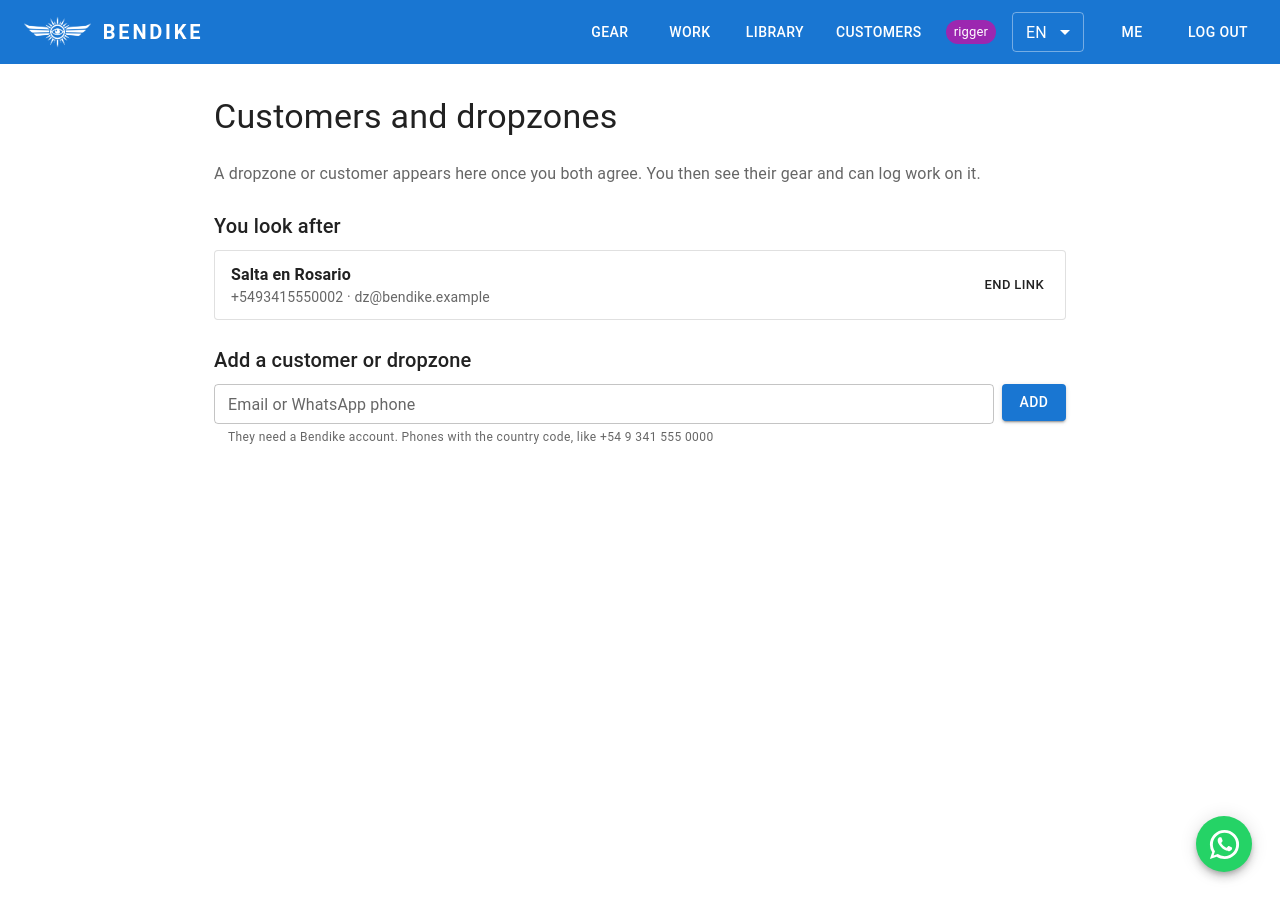
Scenario: LinksPage as a rigger › says the person must create an account first when nobody matches
This screenshot has width=1280, height=900.
Check: the heading "Customers and dropzones" is shown, box [214,96,618,136]
Type "nobody@x.example" into the field labelled "Email or WhatsApp phone" at coordinates (604, 404), box [214,384,994,424]
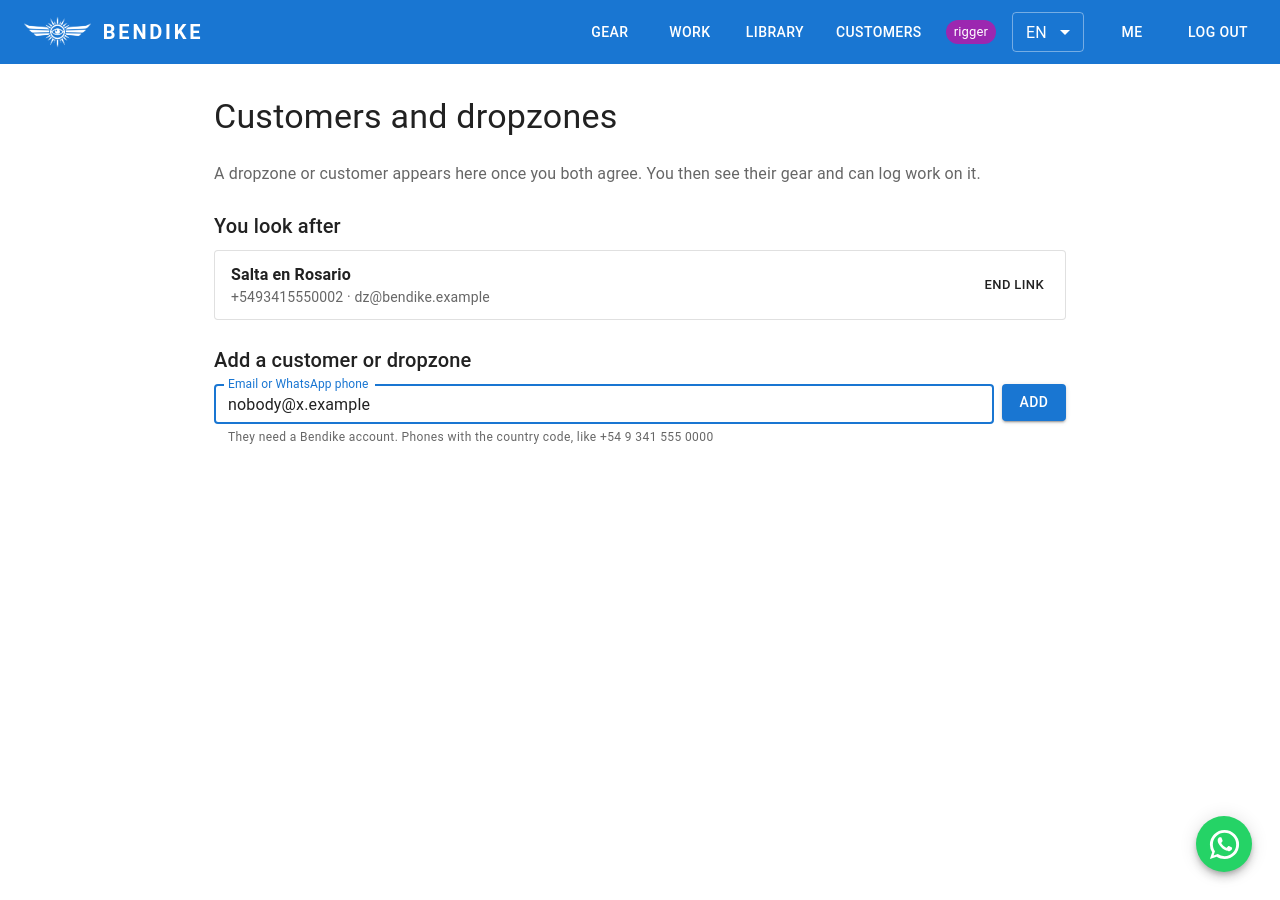
Click the button "Add" at coordinates (1034, 402), box [1002,384,1066,420]
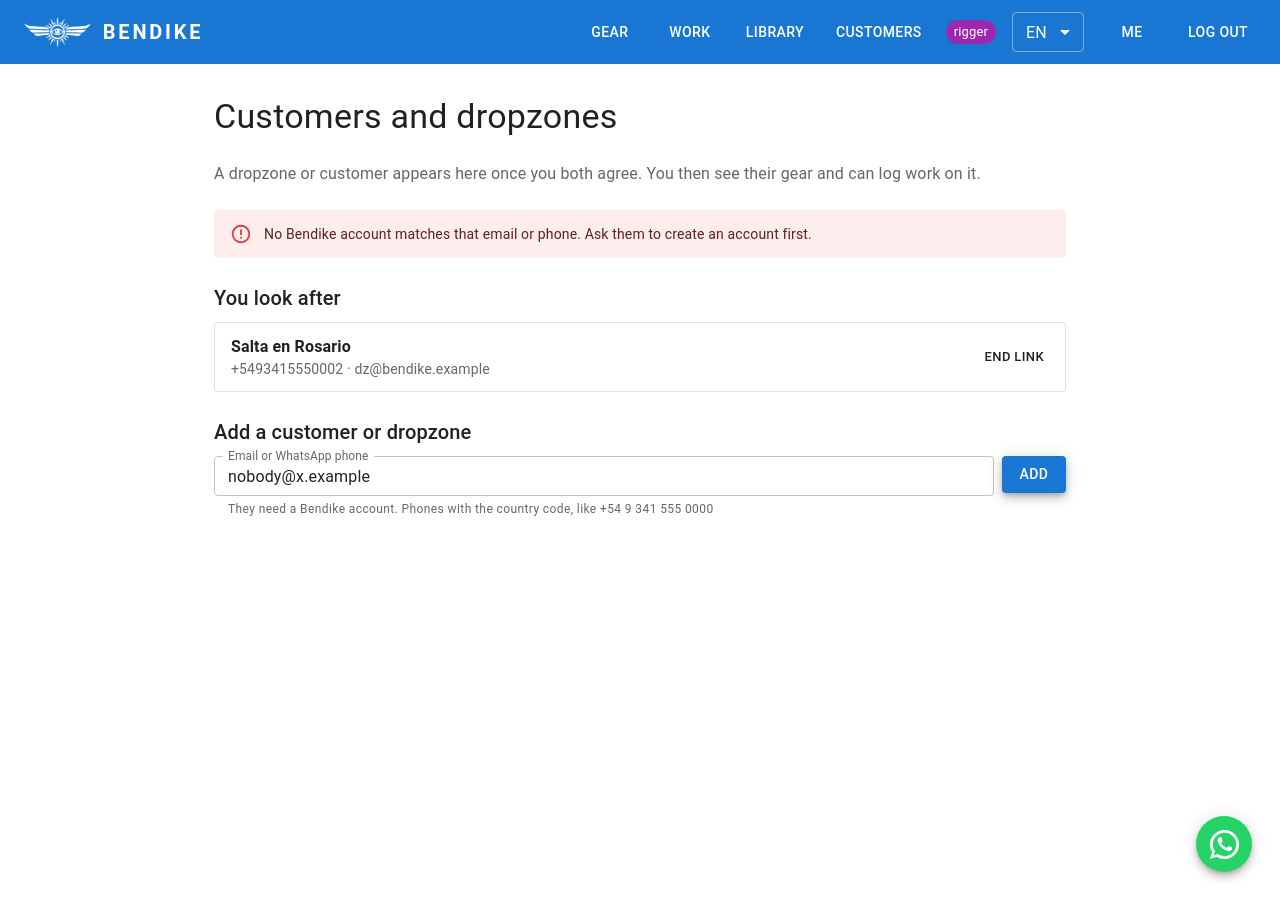
Check: the text "create an account first" is shown, box [264,226,812,242]
